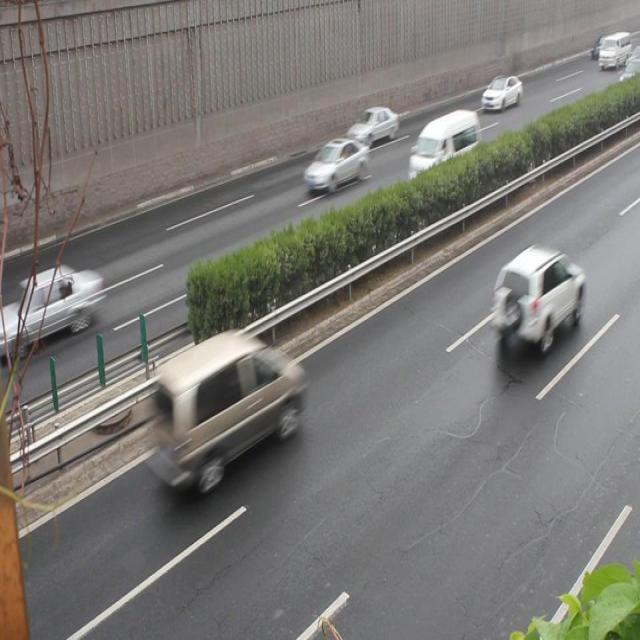car: (491, 240, 584, 348), (0, 263, 102, 352), (302, 135, 368, 192), (344, 103, 398, 145), (478, 71, 521, 109)
